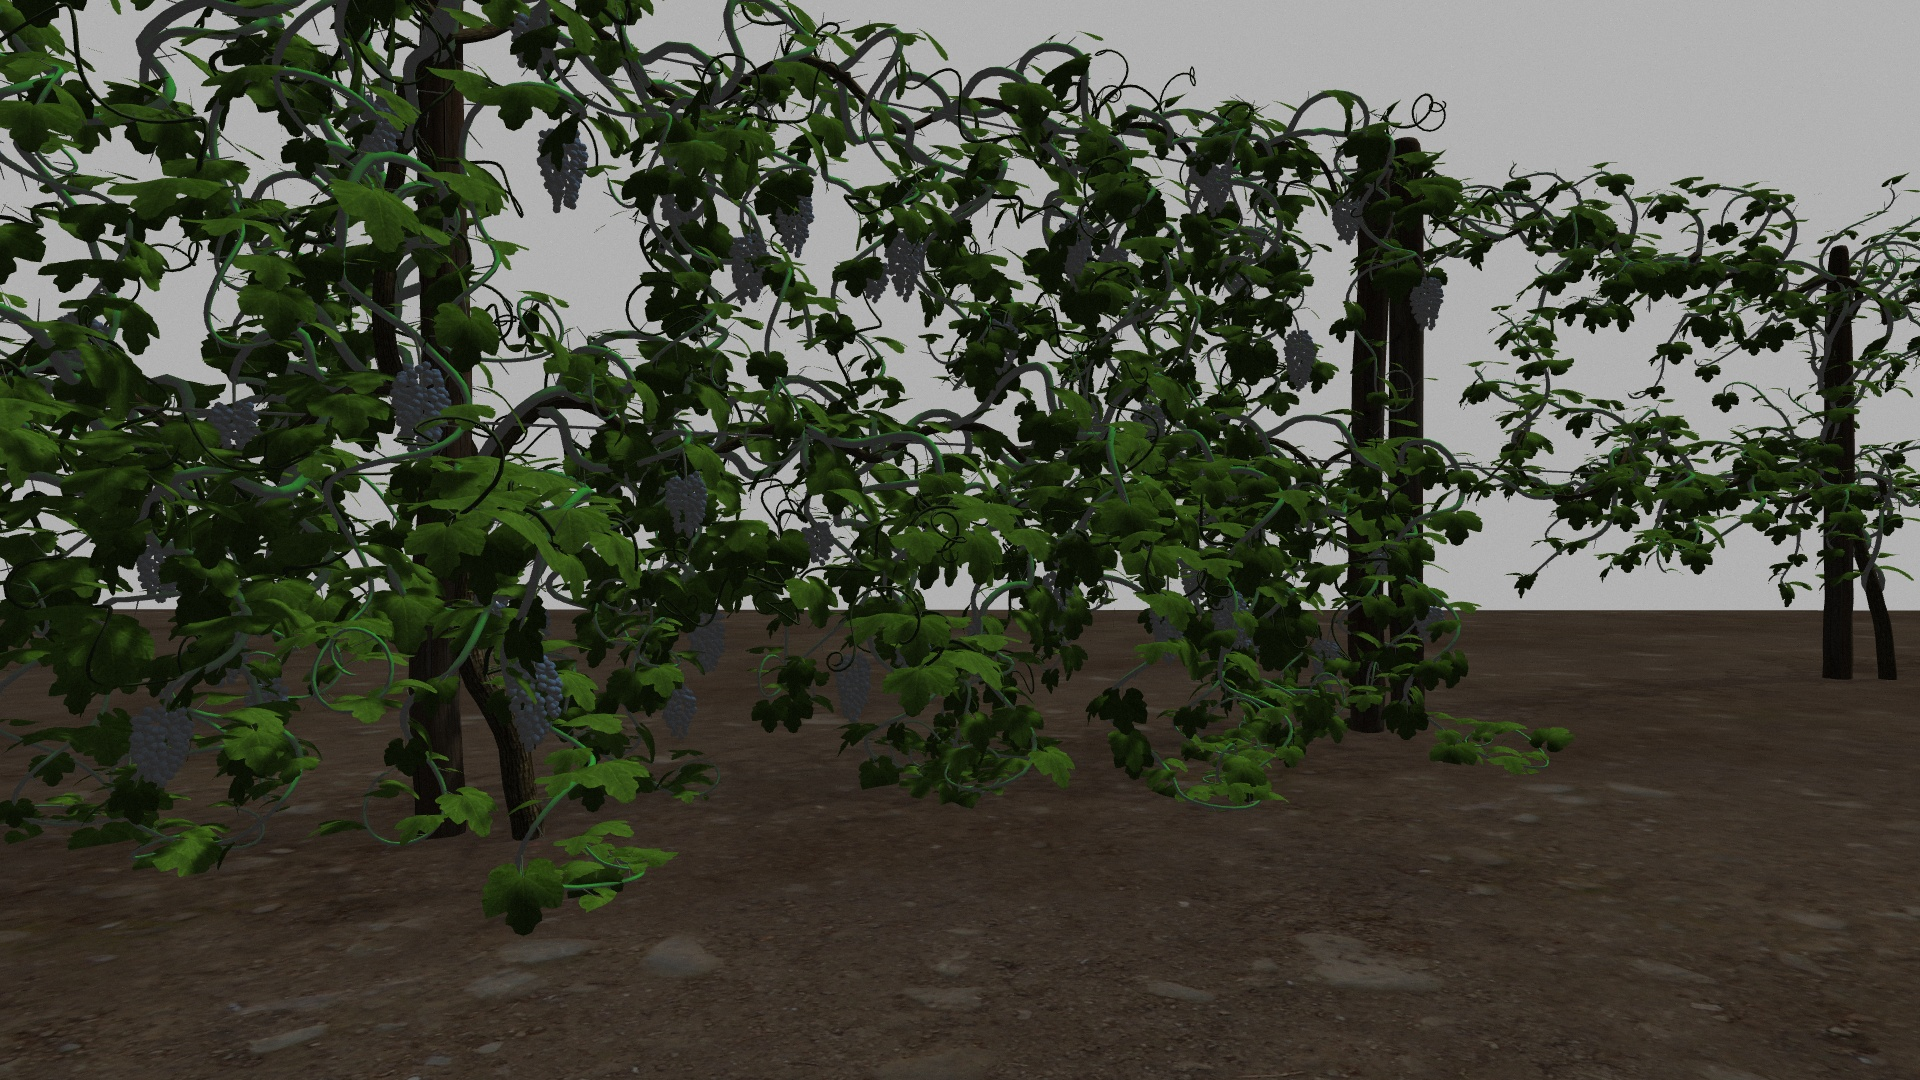grape: (127, 704, 195, 793), (501, 657, 563, 750), (392, 363, 451, 447), (535, 128, 591, 214), (884, 232, 927, 303), (684, 607, 728, 676), (137, 533, 181, 603), (665, 471, 709, 537), (204, 400, 258, 454), (729, 233, 767, 307), (833, 653, 873, 724), (775, 193, 816, 256), (1189, 162, 1233, 218), (1056, 219, 1095, 278), (1283, 328, 1317, 392), (1216, 593, 1253, 649), (661, 686, 698, 741), (1149, 607, 1185, 659), (1410, 276, 1443, 331), (1331, 195, 1362, 249), (799, 521, 837, 564), (1311, 640, 1340, 687), (1414, 607, 1447, 645)
